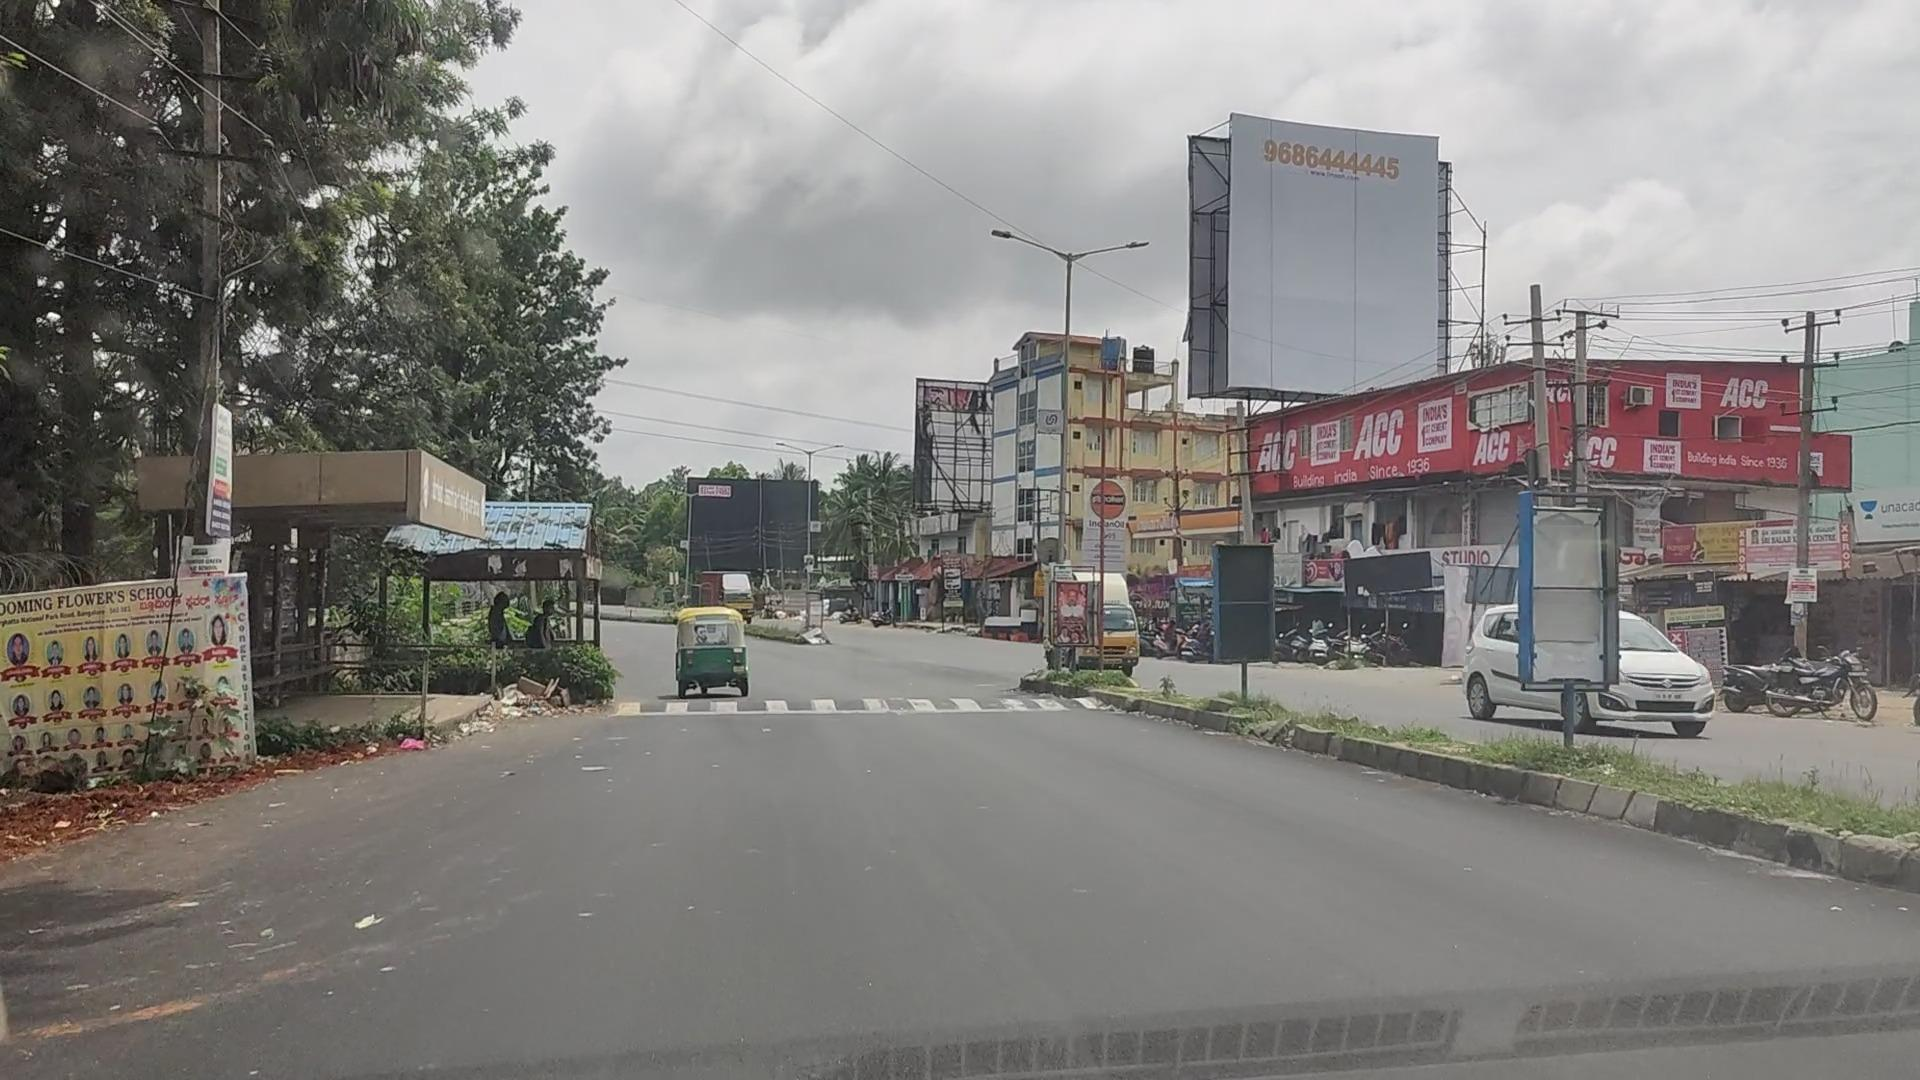LMV: (671, 604, 746, 695)
SpeedBump: (613, 691, 1102, 719)
